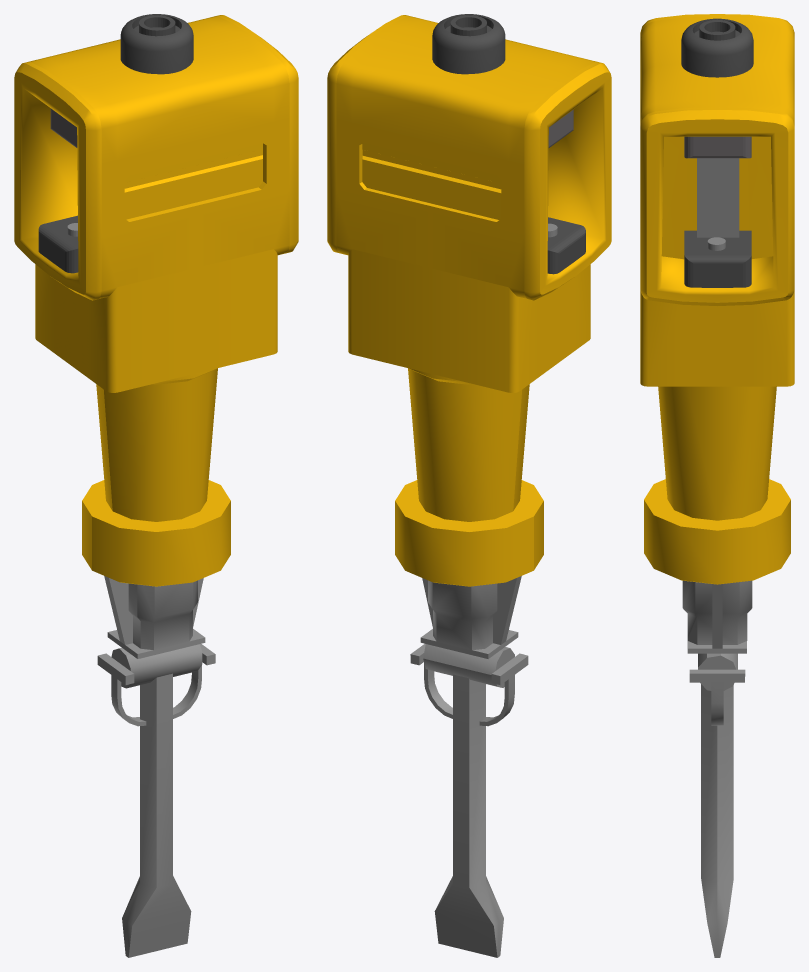
File: JackHammer.fbx
3 renders of one model, left to right at view 1: azimuth 30°, elevation 25°; view 2: azimuth 150°, elevation 25°; view 3: azimuth 270°, elevation 25°, orthographic.
Visible parts, largest first — view 1: Cylinder; view 2: Cylinder; view 3: Cylinder.
Boxes of the visible parts, x1,y1,x2,y2 form: Cylinder: (14,14,298,957); Cylinder: (327,14,611,957); Cylinder: (640,14,794,957).
Bounding box in the file's own units: 120 × 498 × 76.17.
